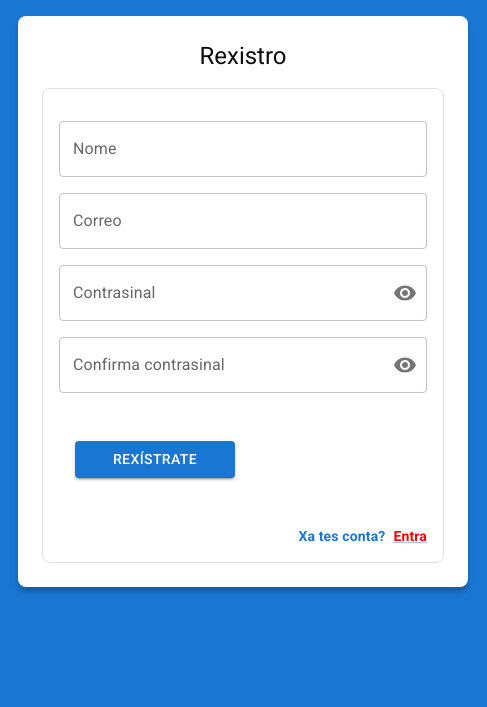
Test: Register Page › should display validation errors when form is submitted with invalid data
This screenshot has width=487, height=707.
Click the button "Rexístrate": (155, 459) [75,441,235,478]
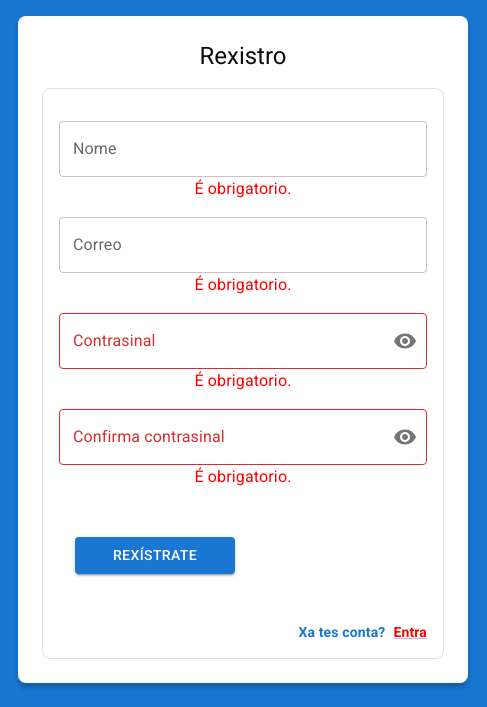
Now the text "É obrigatorio." is shown 4 times, box [194,179,292,198]; [194,275,292,294]; [194,371,292,390]; [194,467,292,486]
